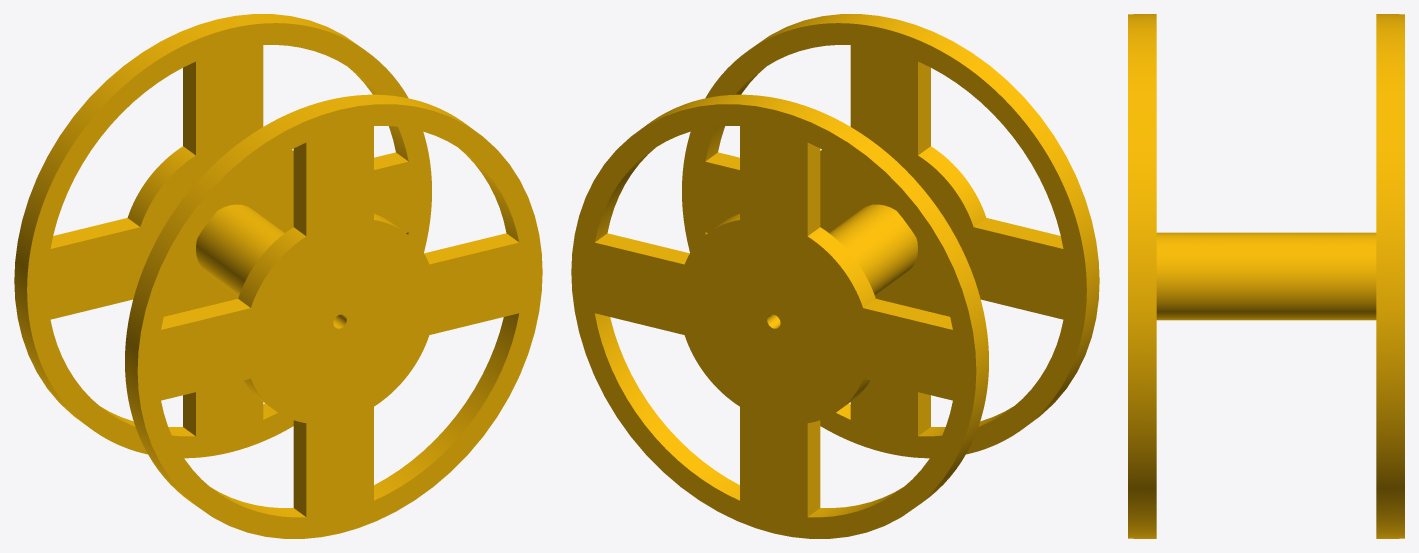
File: right_front_wheel.dae
3 renders of one model, left to right at view 1: azimuth 30°, elevation 25°; view 2: azimuth 150°, elevation 25°; view 3: azimuth 270°, elevation 25°, orthographic. The views are drawn at different scales.
Visible parts, largest first — view 1: Brep; view 2: Brep; view 3: Brep.
Part boxes in pixels (box(x1,y1,x2,y2)): Brep: box(14, 14, 542, 538); Brep: box(571, 14, 1099, 538); Brep: box(1128, 14, 1404, 538).
Size of the model in its own units: 0.055 by 0.029 by 0.055.
